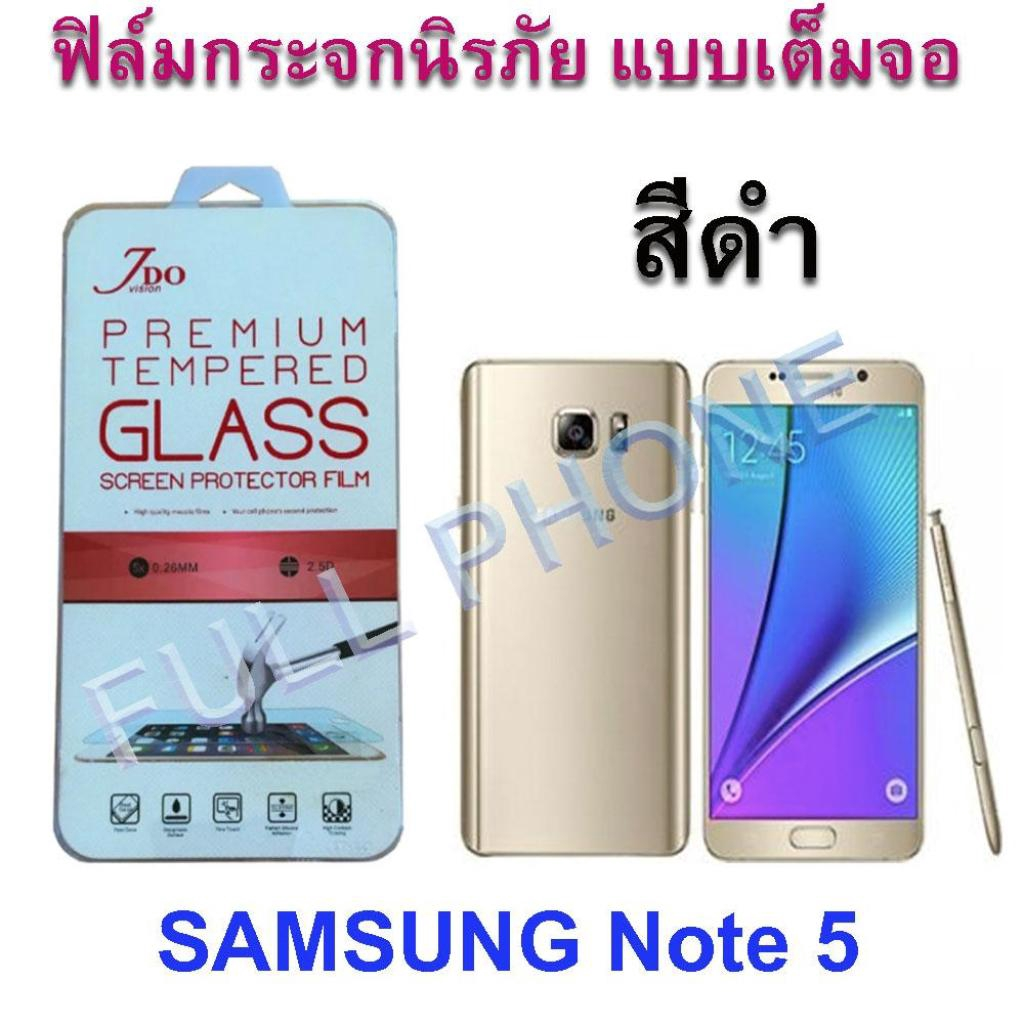Phone: (700, 358, 933, 868), (458, 358, 693, 858)
